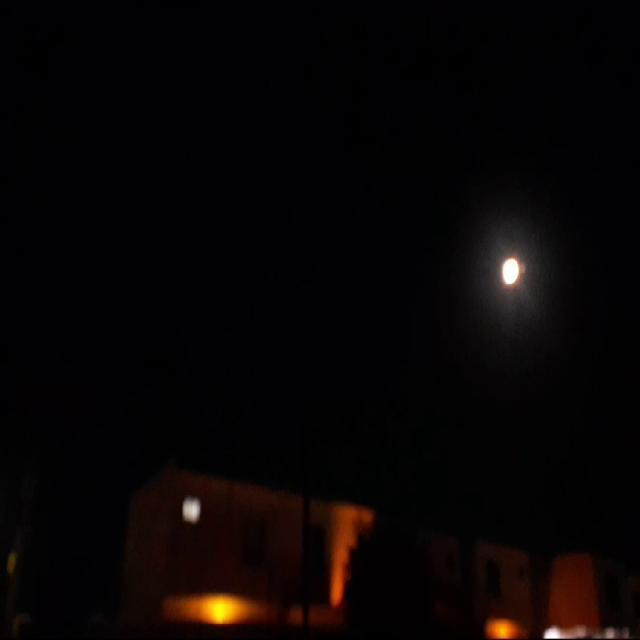moon: (499, 256, 522, 290)
